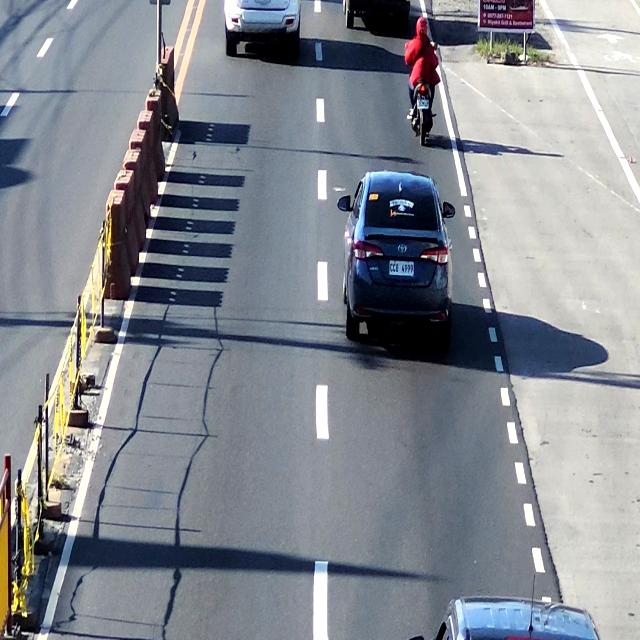Car: (338, 167, 455, 348), (430, 586, 601, 640), (226, 0, 299, 62), (343, 0, 405, 30)
License-Plate: (387, 262, 416, 282), (417, 96, 432, 114)
Motorcycle: (408, 20, 437, 142)
